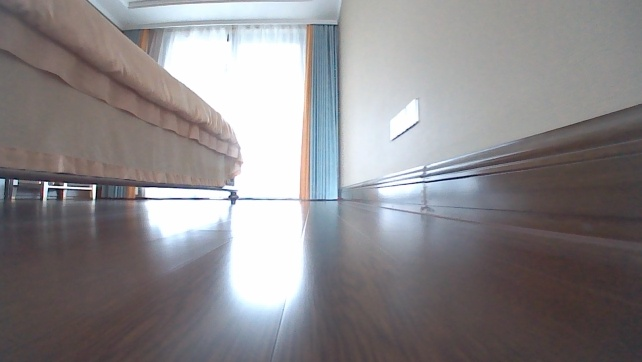bed1: (0, 0, 245, 205)
